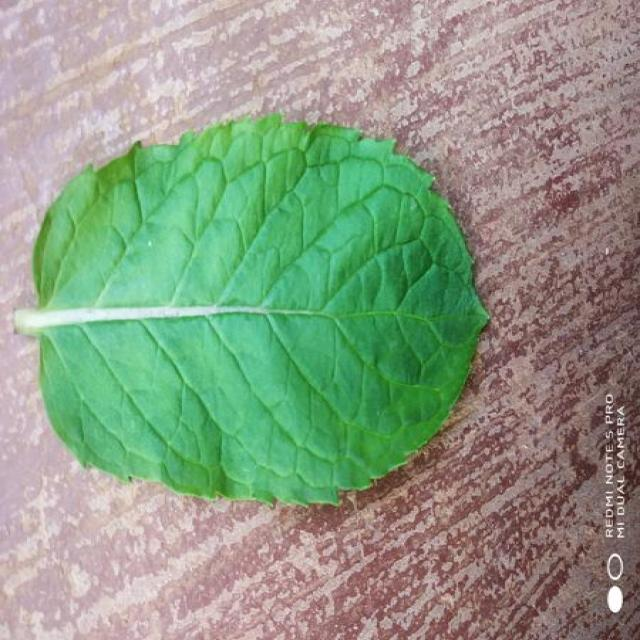mint: (15, 115, 488, 503)
